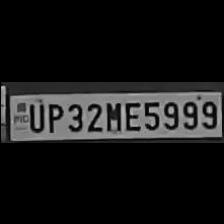2: (83, 99, 103, 131)
3: (64, 99, 82, 130)
5: (140, 97, 160, 128)
9: (198, 97, 218, 129), (160, 97, 180, 128), (180, 97, 198, 129)
E: (122, 98, 140, 130)
M: (103, 99, 121, 131)
P: (43, 100, 62, 132)
U: (25, 99, 43, 130)
